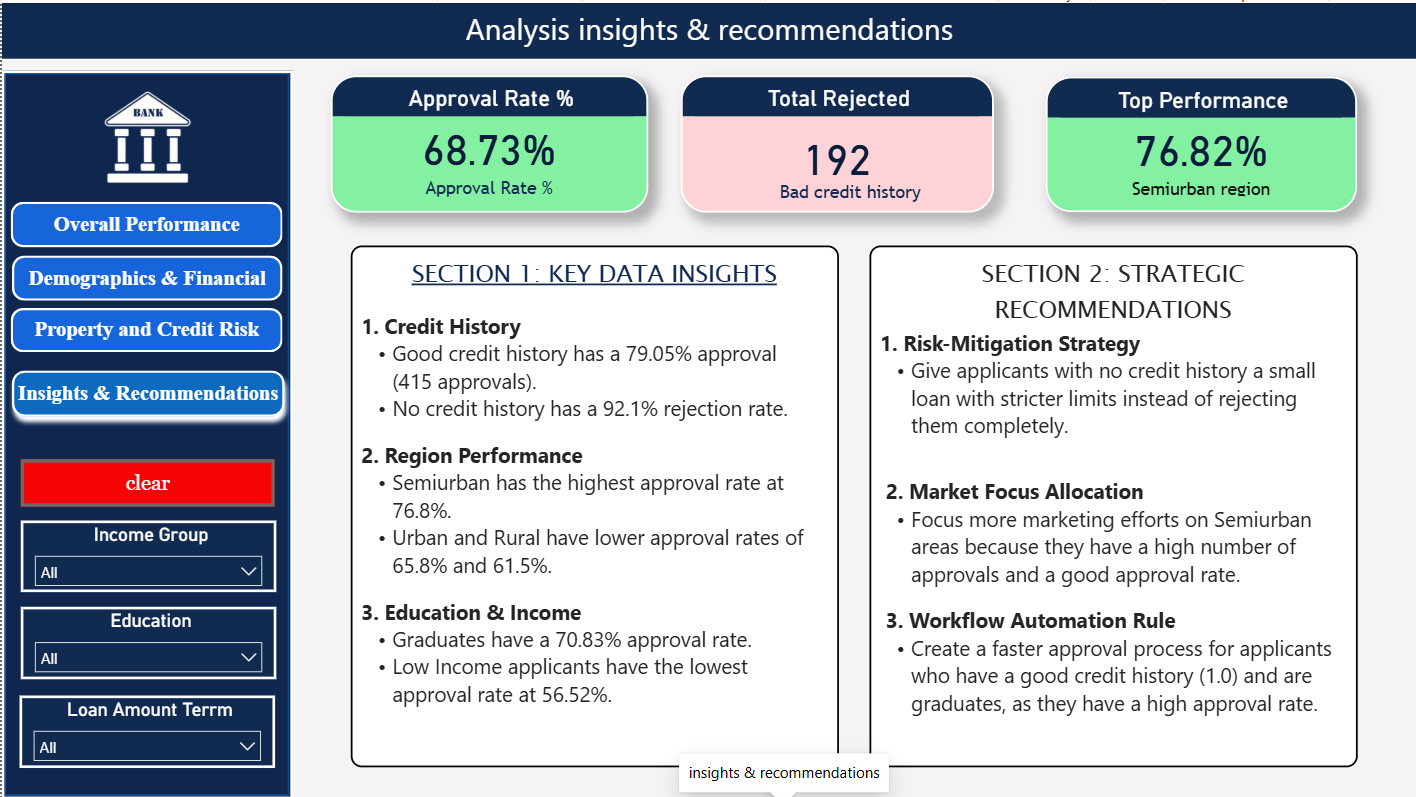

The page's visual inventory and layout, read from the dashboard file:
{"tool":"powerbi","page":{"name":"insights & recommendations","canvas":[1280,720],"ordinal":3},"visuals":[{"type":"textbox","box":[0,0,1280,50],"z":0},{"type":"shape","box":[0,60.7,263.1,659.5],"z":1000},{"type":"card","title":"Total Rejected","fields":{"Values":["l_approved.Total Rejected"]},"box":[614,65.1,283.7,134.9],"z":2000},{"type":"card","title":"Approval Rate %","fields":{"Values":["l_approved.Approval Rate %"]},"box":[297.7,65.1,287.2,134.9],"z":3000},{"type":"slicer","title":"Income Group","fields":{"Values":["l_approved.Income_Group"]},"box":[16.7,468,231,65],"z":4000},{"type":"slicer","title":"Education","fields":{"Values":["l_approved.Education"]},"box":[16.7,546.6,231,65.5],"z":5000},{"type":"slicer","title":"Loan Amount Terrm","fields":{"Values":["l_approved.Loan_Amount_Term"]},"box":[15.5,626.3,231,65.5],"z":6000},{"type":"actionButton","box":[16.7,413.1,229.8,42.9],"z":7000},{"type":"textbox","box":[682,155.5,172.8,33.2],"z":8000},{"type":"card","title":"Top Performance","fields":{"Values":["l_approved.Semiurban Approval Rate %"]},"box":[944.2,66.3,281.4,133.7],"z":9000},{"type":"textbox","box":[315.1,219.4,441.4,472],"z":10000},{"type":"textbox","box":[784.4,219.4,441.4,472],"z":11000},{"type":"actionButton","box":[8,179.5,246,41.2],"z":12000},{"type":"actionButton","box":[9.3,227.9,244.6,41],"z":13000},{"type":"actionButton","box":[8,276,246,39.9],"z":14000},{"type":"actionButton","box":[0,323.1,264.6,59.8],"z":15000},{"type":"image","box":[65.1,75.8,132.9,94.4],"z":16000}]}

Visuals, with their boxes in screenshot pixels (x1, y1, x2, y2), scaled from the page's 1280x720 canvas onto the 1416x797 screenshot:
textbox: bbox=(0, 0, 1415, 55)
shape: bbox=(0, 67, 291, 796)
"Total Rejected" card: bbox=(679, 72, 993, 221)
"Approval Rate %" card: bbox=(329, 72, 647, 221)
"Income Group" slicer: bbox=(18, 518, 274, 590)
"Education" slicer: bbox=(18, 605, 274, 678)
"Loan Amount Terrm" slicer: bbox=(17, 693, 273, 766)
actionButton: bbox=(18, 457, 273, 505)
textbox: bbox=(754, 172, 946, 209)
"Top Performance" card: bbox=(1045, 73, 1356, 221)
textbox: bbox=(349, 243, 837, 765)
textbox: bbox=(868, 243, 1356, 765)
actionButton: bbox=(9, 199, 281, 244)
actionButton: bbox=(10, 252, 281, 298)
actionButton: bbox=(9, 306, 281, 350)
actionButton: bbox=(0, 358, 293, 424)
image: bbox=(72, 84, 219, 188)
